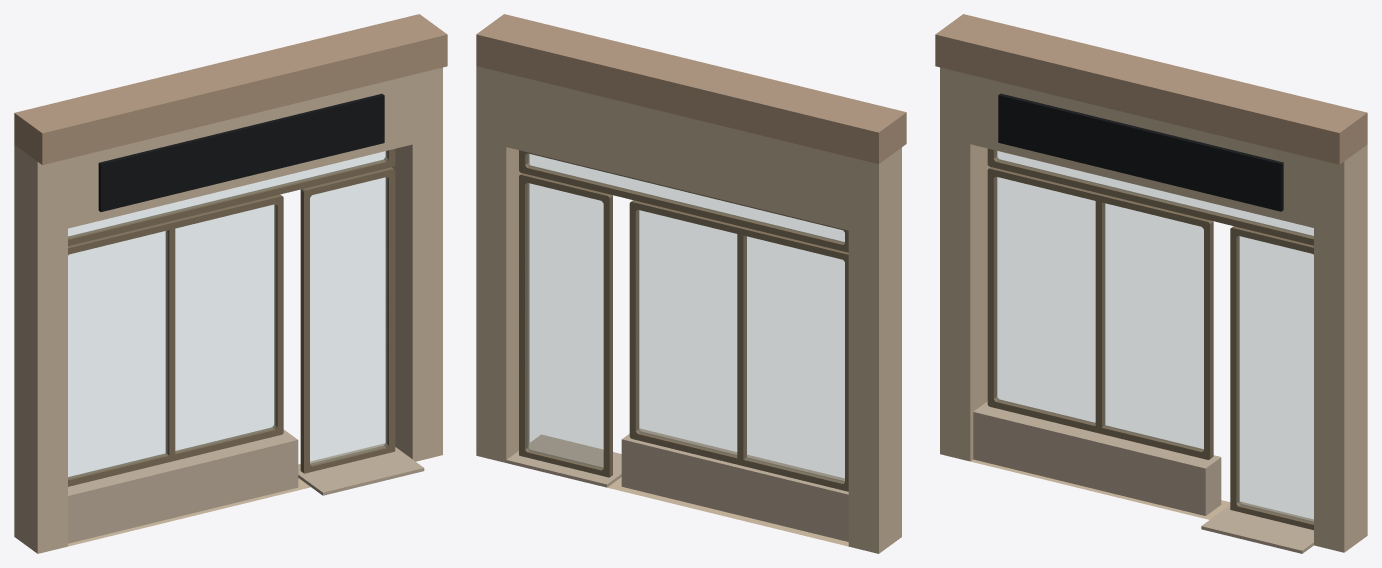
Rendered from city_shop_glazed.glb.
3 views of the same model, side by side, from view 1: azimuth 30°, elevation 25°; view 2: azimuth 150°, elevation 25°; view 3: azimuth 330°, elevation 25° (orthographic).
Parts seen in each view (by area): view 1: CityShopGlazed_Wall, CityShopGlazed_DisplayGlass, CityShopGlazed_Band, CityShopGlazed_DoorGlass, CityShopGlazed_SignPanel, CityShopGlazed_Stallriser, CityShopGlazed_DoorFrame, CityShopGlazed_DisplayFrame, CityShopGlazed_TransomFrame, CityShopGlazed_TransomGlass, CityShopGlazed_Threshold, CityShopGlazed_DisplayMullion; view 2: CityShopGlazed_Wall, CityShopGlazed_DisplayGlass, CityShopGlazed_Band, CityShopGlazed_DoorGlass, CityShopGlazed_Stallriser, CityShopGlazed_DisplayFrame, CityShopGlazed_DoorFrame, CityShopGlazed_TransomGlass, CityShopGlazed_TransomFrame, CityShopGlazed_Threshold, CityShopGlazed_DisplayMullion; view 3: CityShopGlazed_Wall, CityShopGlazed_DisplayGlass, CityShopGlazed_Band, CityShopGlazed_DoorGlass, CityShopGlazed_SignPanel, CityShopGlazed_Stallriser, CityShopGlazed_DisplayFrame, CityShopGlazed_DoorFrame, CityShopGlazed_TransomFrame, CityShopGlazed_TransomGlass, CityShopGlazed_Threshold, CityShopGlazed_DisplayMullion.
Part boxes in pixels (left/top/right/bottom): CityShopGlazed_Wall: left=14, top=67, right=442, bottom=553; CityShopGlazed_DisplayGlass: left=68, top=204, right=275, bottom=478; CityShopGlazed_Band: left=14, top=14, right=447, bottom=164; CityShopGlazed_DoorGlass: left=310, top=177, right=387, bottom=464; CityShopGlazed_SignPanel: left=98, top=93, right=384, bottom=211; CityShopGlazed_Stallriser: left=68, top=429, right=298, bottom=543; CityShopGlazed_DoorFrame: left=300, top=167, right=395, bottom=473; CityShopGlazed_DisplayFrame: left=68, top=194, right=283, bottom=486; CityShopGlazed_TransomFrame: left=68, top=149, right=395, bottom=246; CityShopGlazed_TransomGlass: left=68, top=151, right=387, bottom=237; CityShopGlazed_Threshold: left=298, top=443, right=424, bottom=495; CityShopGlazed_DisplayMullion: left=165, top=220, right=175, bottom=461; CityShopGlazed_Wall: left=476, top=66, right=901, bottom=553; CityShopGlazed_DisplayGlass: left=637, top=210, right=844, bottom=482; CityShopGlazed_Band: left=476, top=14, right=906, bottom=164; CityShopGlazed_DoorGlass: left=527, top=183, right=603, bottom=468; CityShopGlazed_Stallriser: left=621, top=428, right=848, bottom=541; CityShopGlazed_DisplayFrame: left=629, top=200, right=848, bottom=491; CityShopGlazed_DoorFrame: left=519, top=173, right=612, bottom=477; CityShopGlazed_TransomGlass: left=527, top=153, right=844, bottom=243; CityShopGlazed_TransomFrame: left=519, top=150, right=848, bottom=252; CityShopGlazed_Threshold: left=506, top=434, right=621, bottom=487; CityShopGlazed_DisplayMullion: left=737, top=227, right=746, bottom=465; CityShopGlazed_Wall: left=940, top=67, right=1367, bottom=552; CityShopGlazed_DisplayGlass: left=995, top=177, right=1203, bottom=450; CityShopGlazed_Band: left=935, top=14, right=1367, bottom=164; CityShopGlazed_DoorGlass: left=1238, top=236, right=1313, bottom=522; CityShopGlazed_SignPanel: left=998, top=93, right=1283, bottom=211; CityShopGlazed_Stallriser: left=973, top=401, right=1221, bottom=515; CityShopGlazed_DisplayFrame: left=987, top=167, right=1213, bottom=459; CityShopGlazed_DoorFrame: left=1230, top=226, right=1313, bottom=530; CityShopGlazed_TransomFrame: left=987, top=148, right=1313, bottom=245; CityShopGlazed_TransomGlass: left=995, top=150, right=1313, bottom=237; CityShopGlazed_Threshold: left=1201, top=501, right=1313, bottom=553; CityShopGlazed_DisplayMullion: left=1095, top=193, right=1105, bottom=433.
Size of the model in its own units: 4 by 4 by 0.6.
